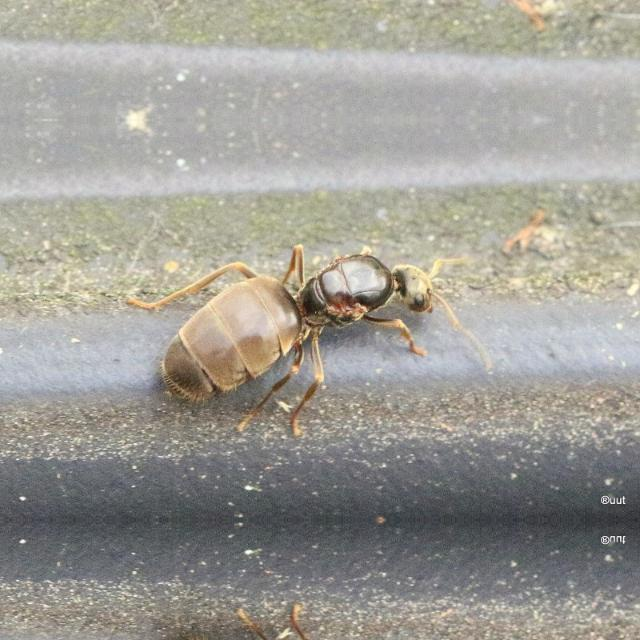Lasius: (140, 228, 474, 438)
